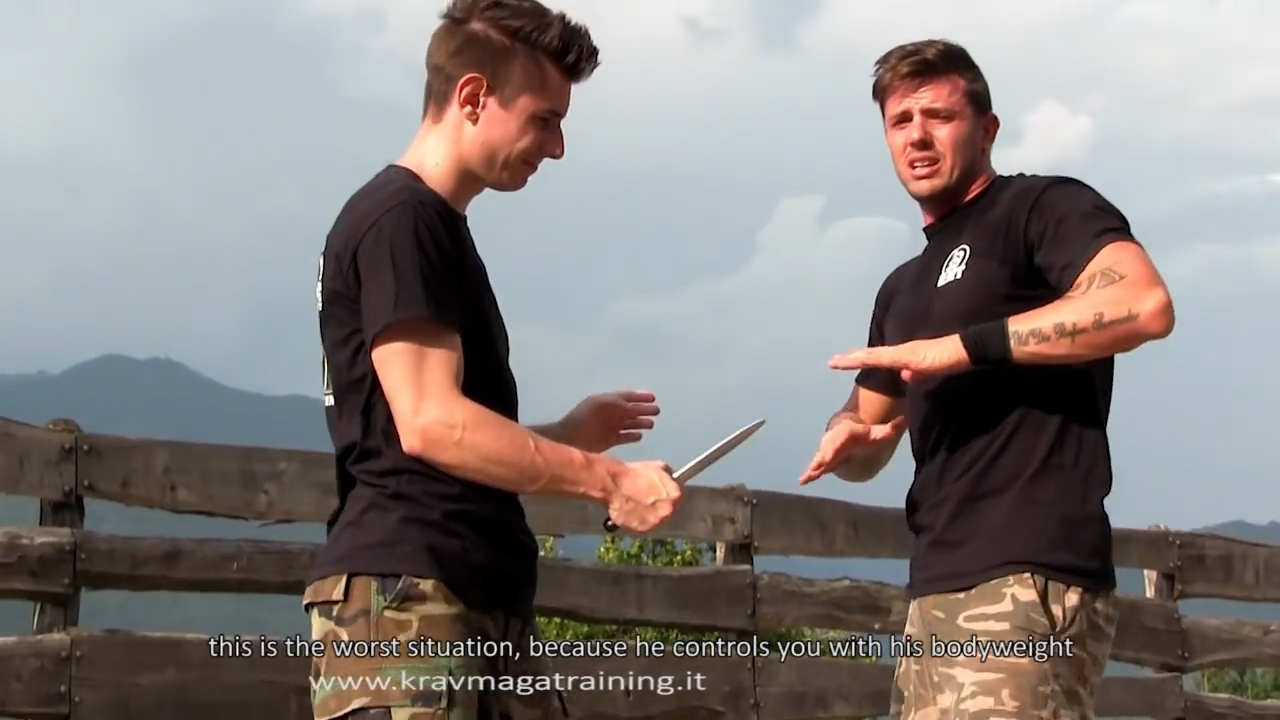knife: (597, 410, 774, 545)
